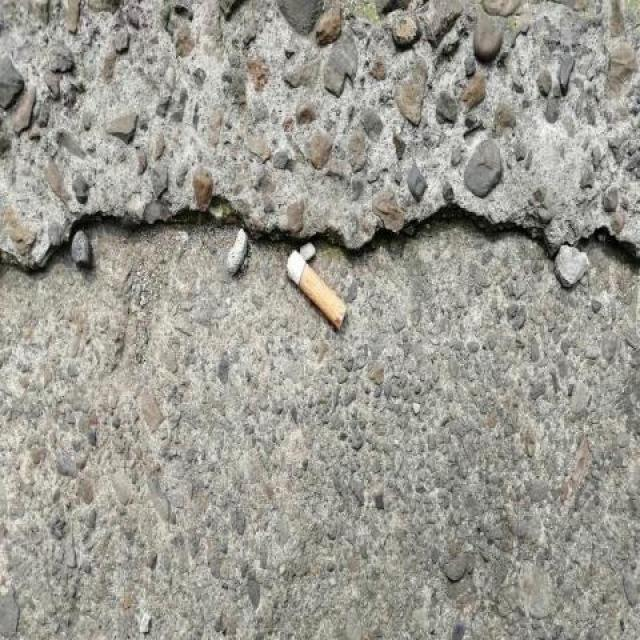non-organic waste: (278, 245, 350, 334)
